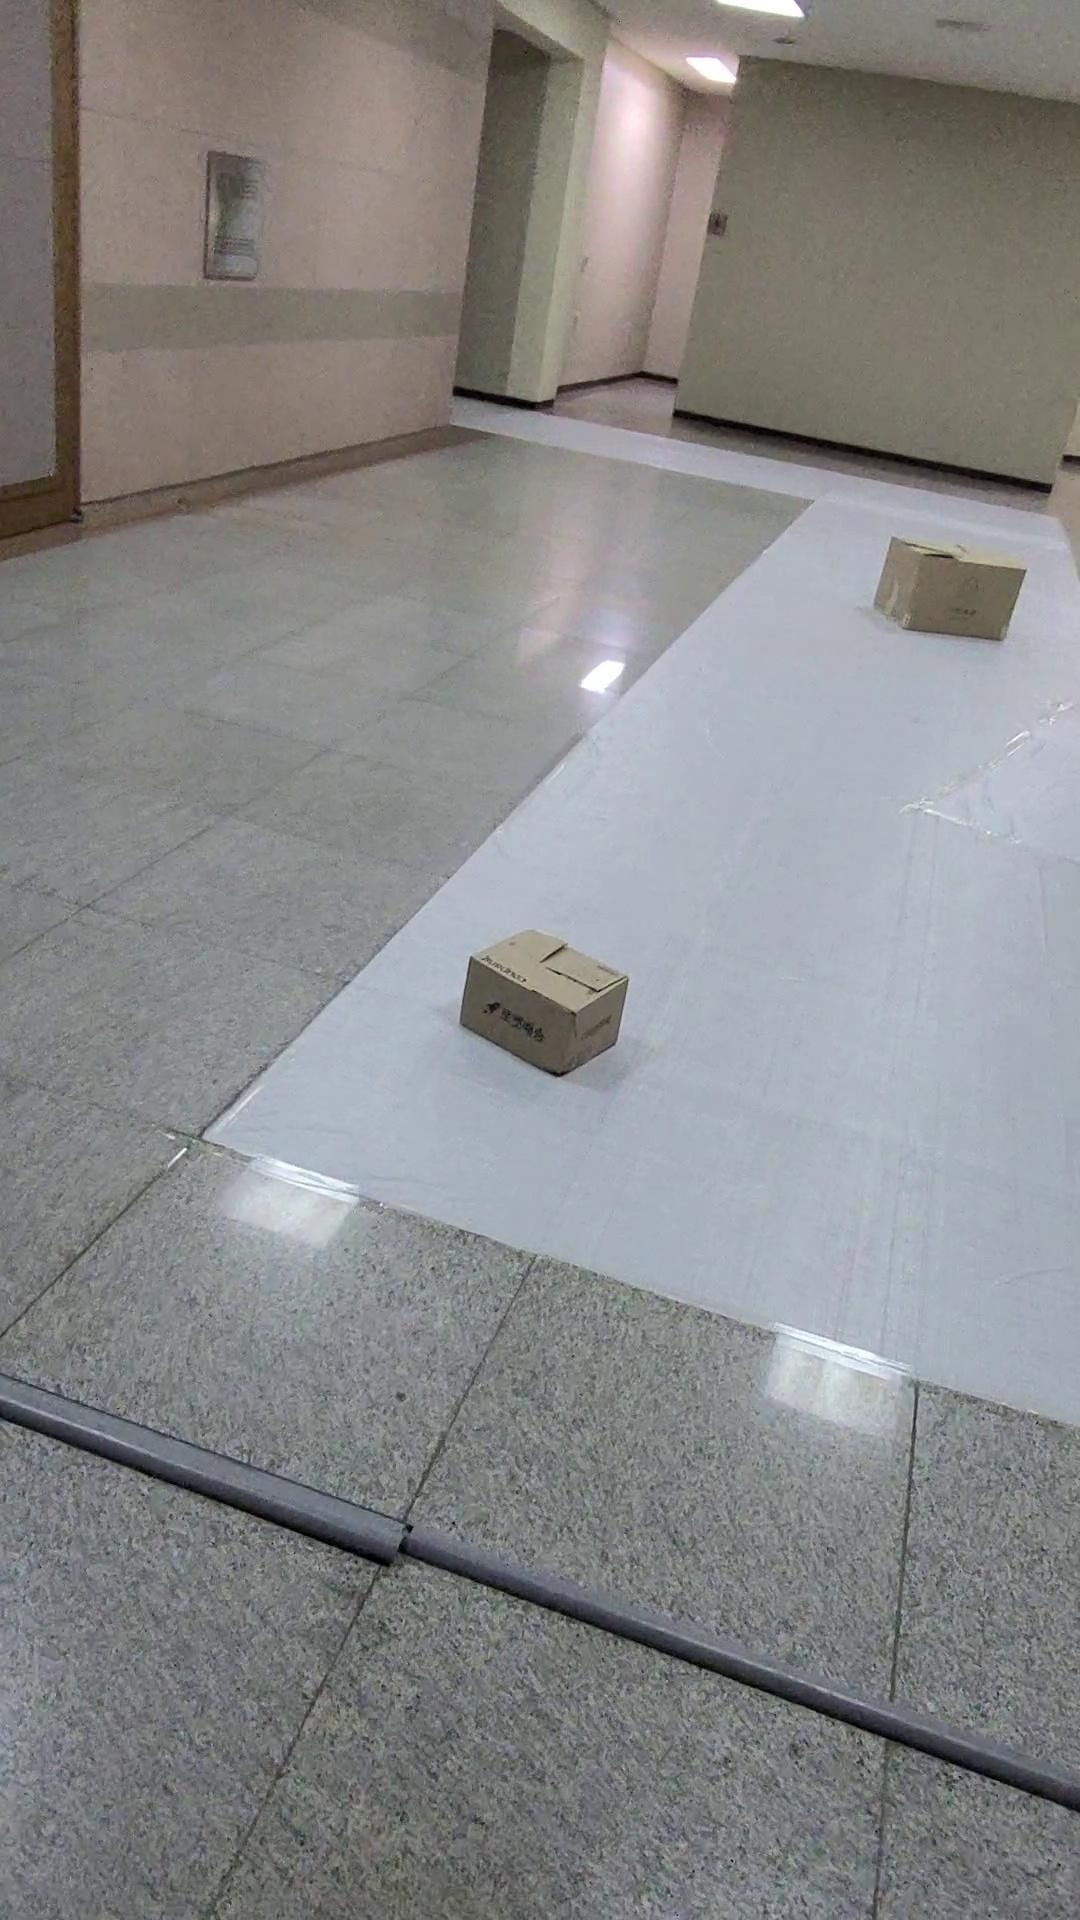Box: (426, 910, 658, 1085), (873, 516, 1029, 647)
